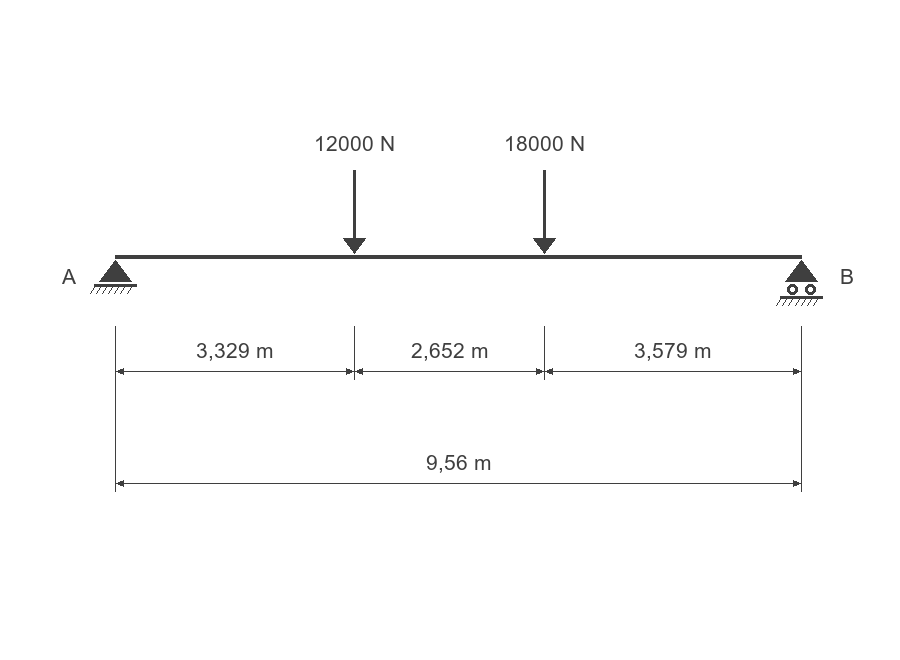pin_support: (90, 260, 137, 294)
point_load: (343, 170, 366, 254), (533, 170, 556, 254)
roller_support: (776, 260, 823, 306)
